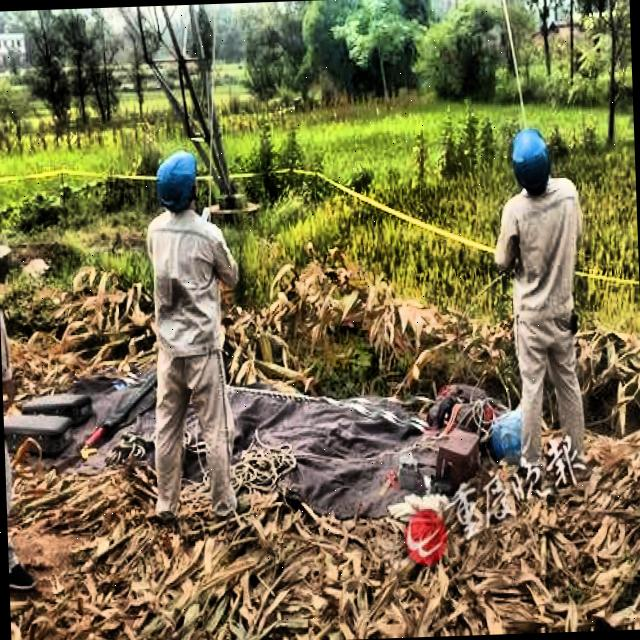helmet: (152, 144, 205, 219), (507, 125, 552, 198)
